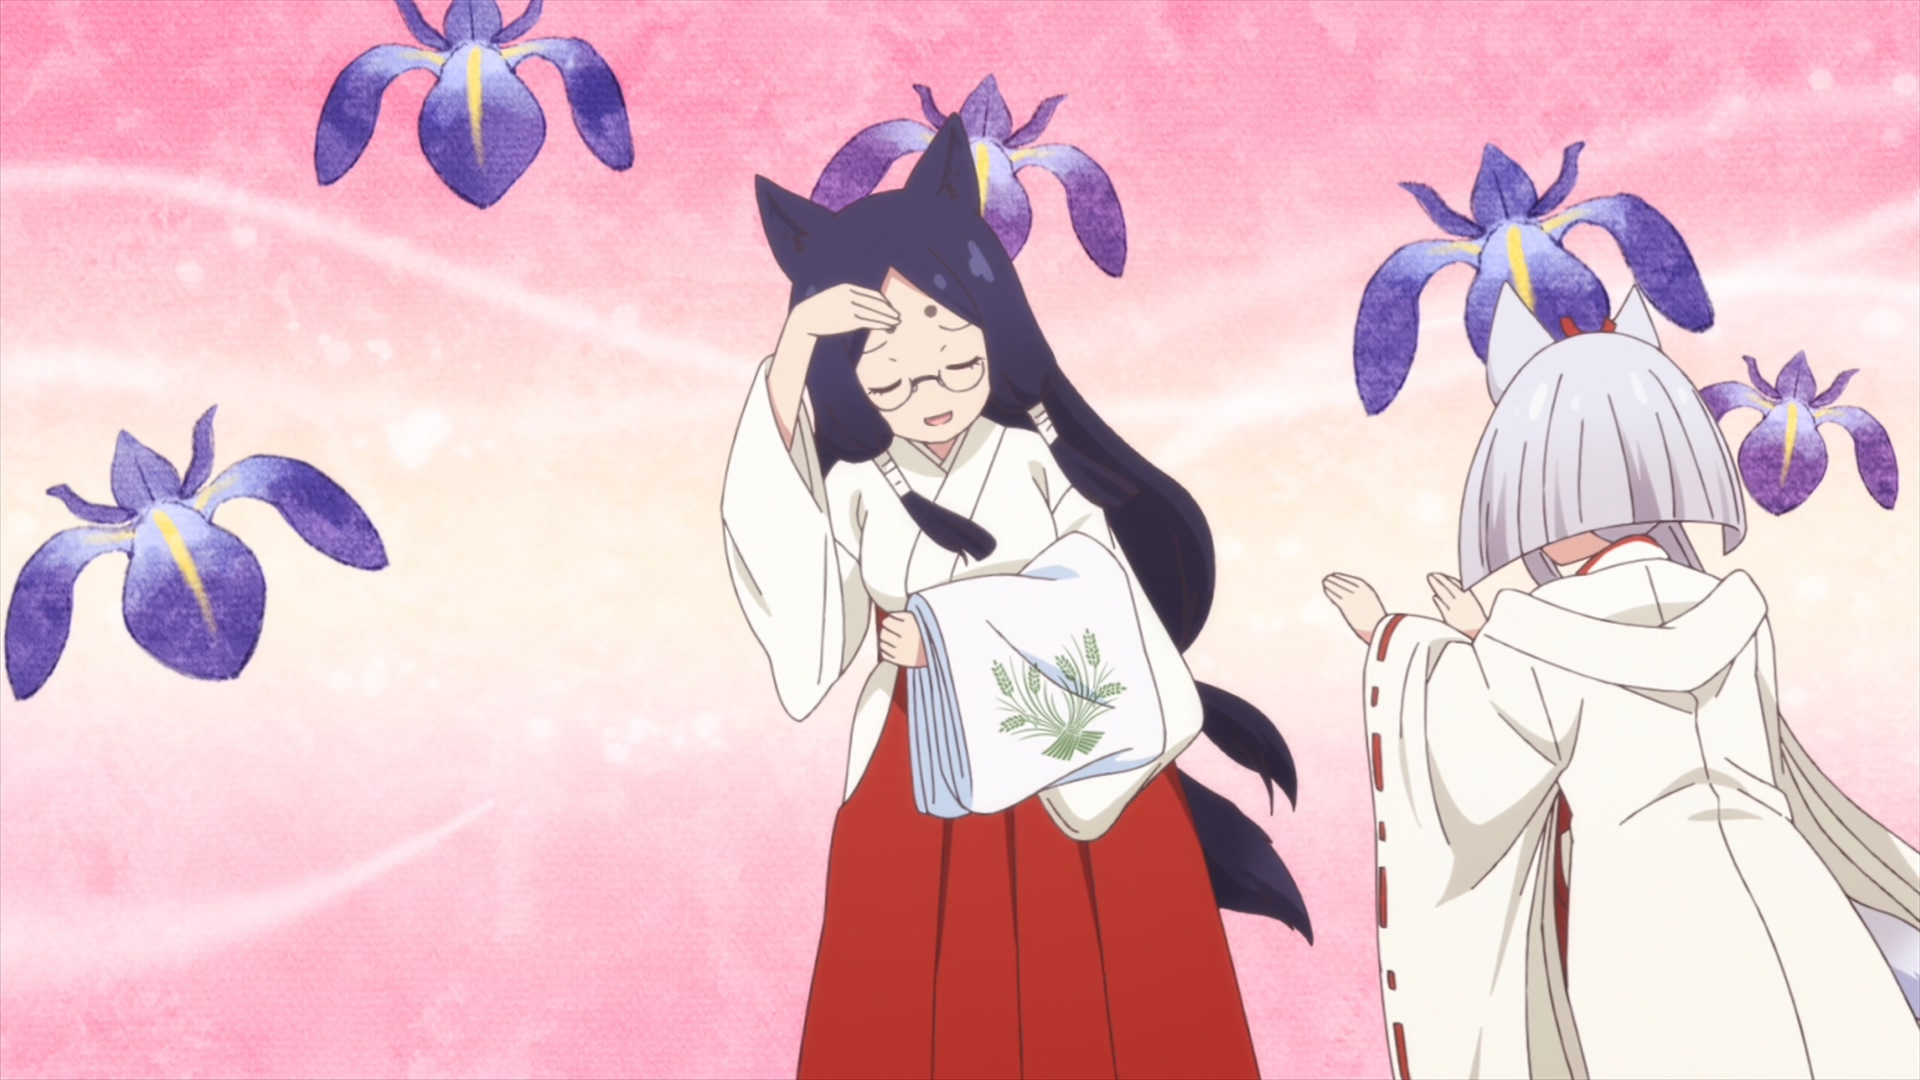柊: (1323, 284, 1920, 1080)
菖: (723, 113, 1315, 1080)
